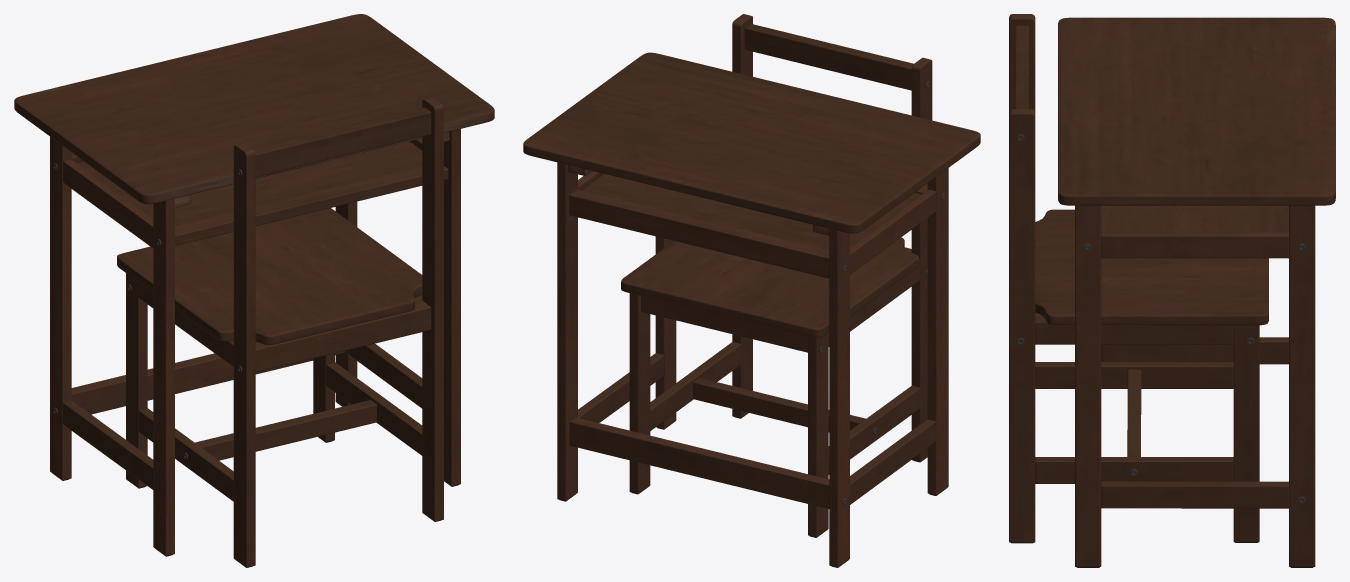
Rendered from abo-B07YBHVN3Y.glb.
3 renders of one model, left to right at view 1: azimuth 30°, elevation 25°; view 2: azimuth 150°, elevation 25°; view 3: azimuth 270°, elevation 25°, orthographic. The views are drawn at different scales.
Size of the model in its own units: 0.599 by 0.673 by 0.463.
1 material, 1 textured.
